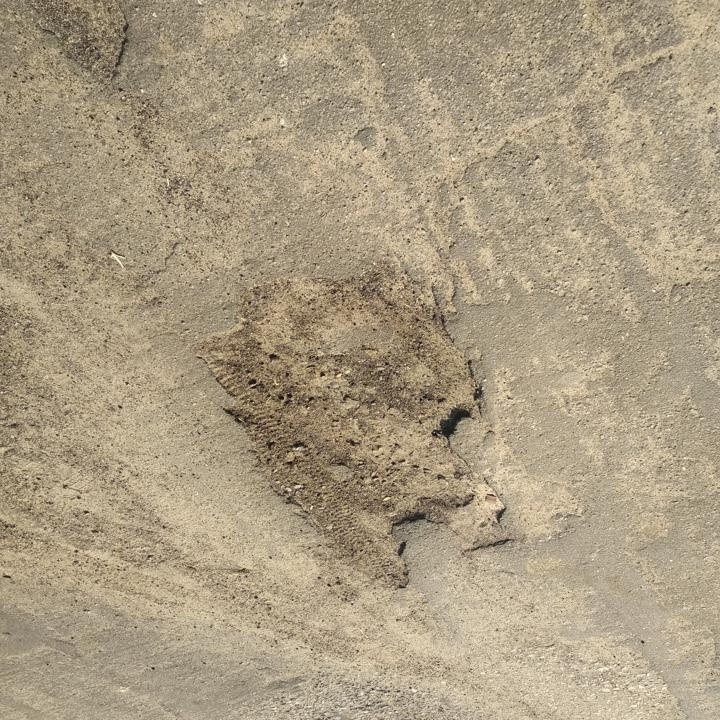pothole: (192, 264, 517, 597), (20, 0, 142, 88)
